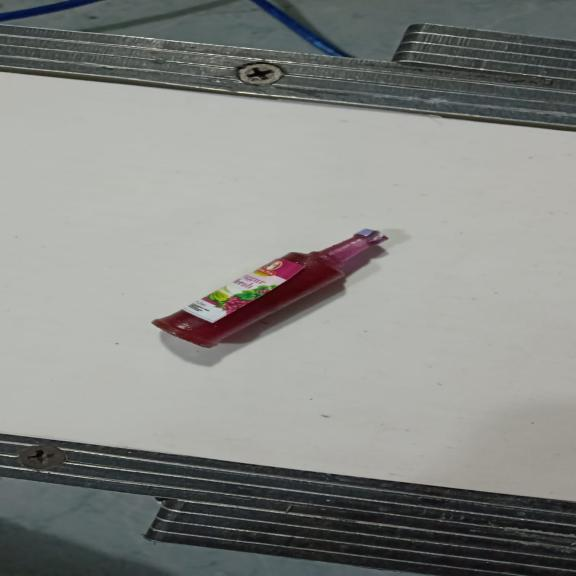Plastik: (150, 229, 390, 348)
